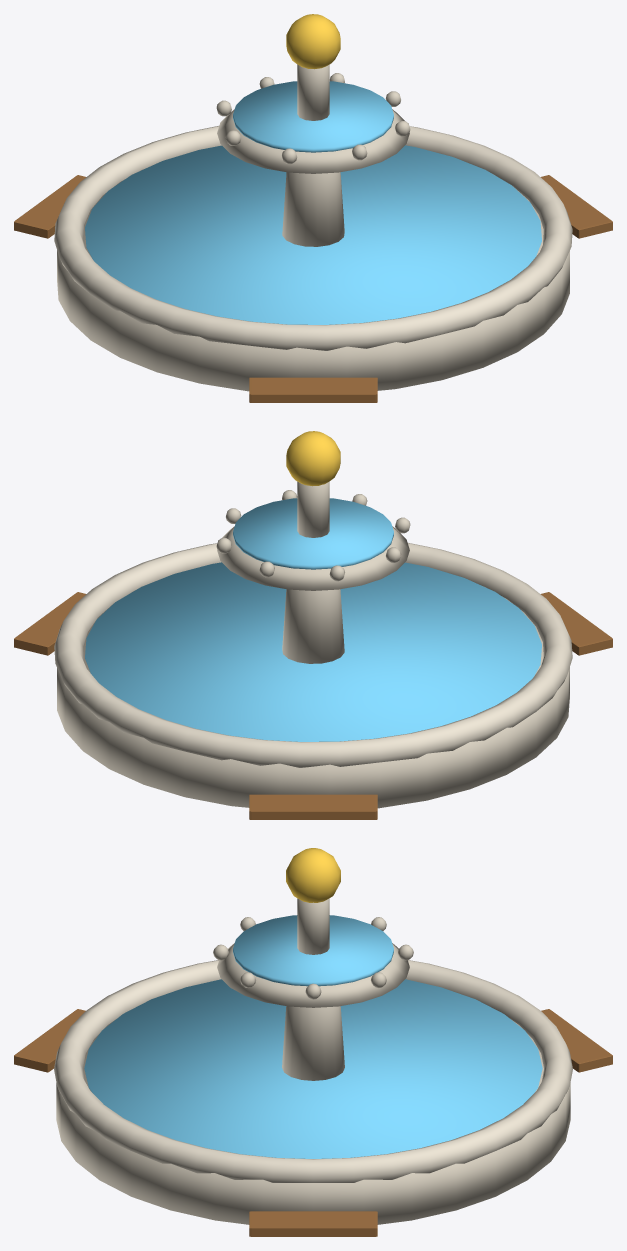
Rendered from fontana.glb.
The picture shows the model from 3 angles, top to bottom: view 1: azimuth 30°, elevation 25°; view 2: azimuth 150°, elevation 25°; view 3: azimuth 270°, elevation 25°; orthographic projection.
Visible parts, largest first — view 1: fontana; view 2: fontana; view 3: fontana.
Part boxes in pixels (x1,y1,x2,y2): fontana: [14, 14, 612, 402]; fontana: [14, 431, 612, 819]; fontana: [14, 848, 612, 1236].
Bounding box in the file's own units: 7.08 × 3.7 × 7.45.
4 materials, 4 textured.
